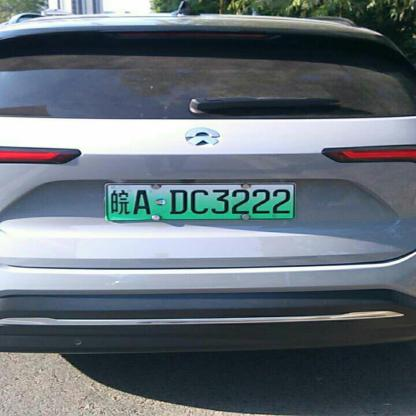lp: (108, 184, 294, 219)
